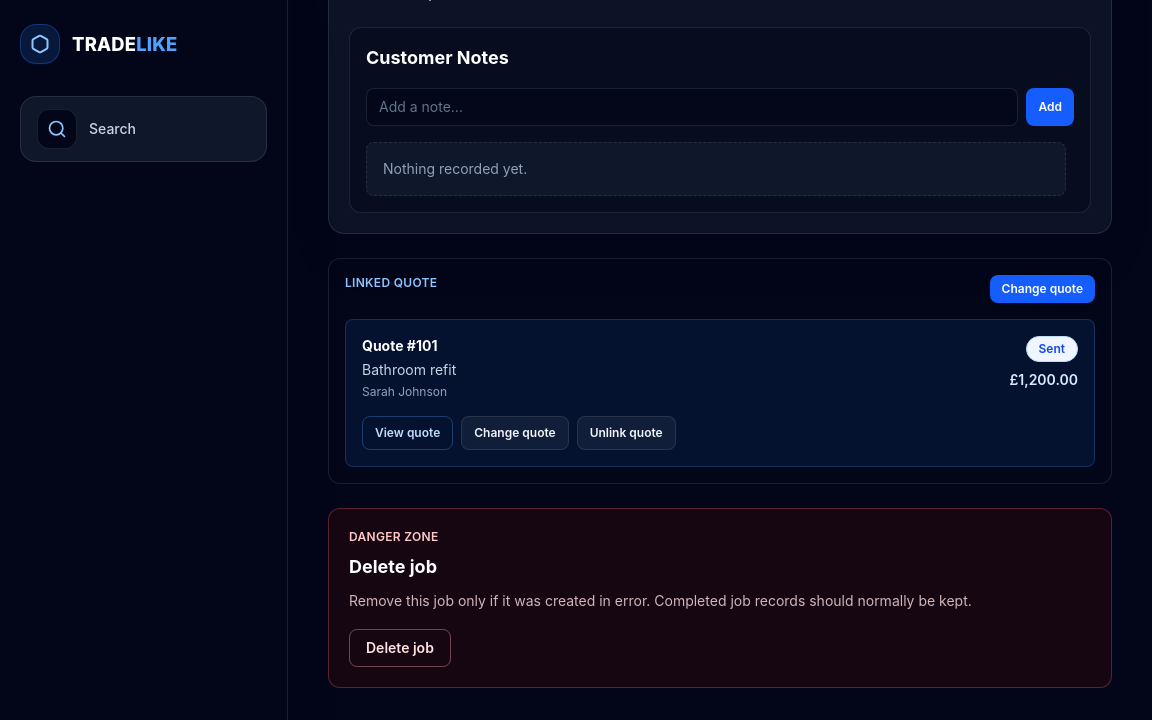
it: JobDetails linked quote › shows linked quote summary and unlinks with confirmation
(page scrolled)
Expected: the text "Bathroom refit" is shown, [362,360,456,380]
Expected: the text "Sarah Johnson" is shown, [362,384,456,400]
Click the button "Unlink quote".
click(626, 433)  # box [577,416,676,450]
(page scrolled)
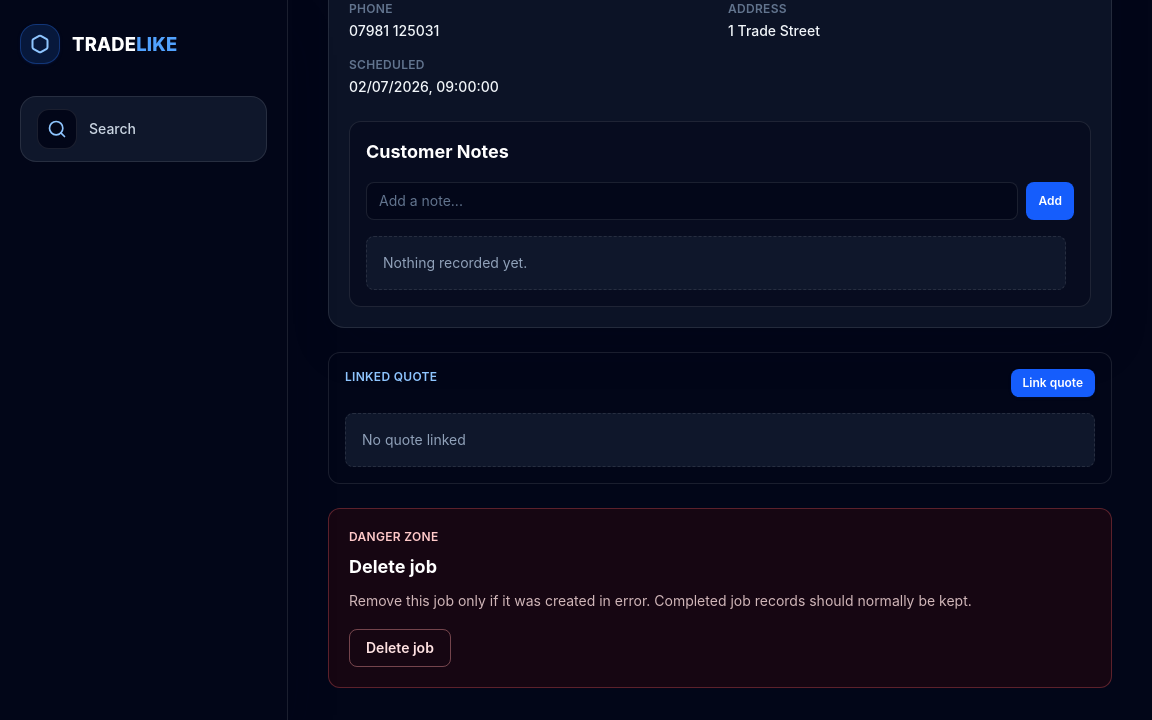
Now the text "No quote linked" is shown, box [345,413,1095,467]
